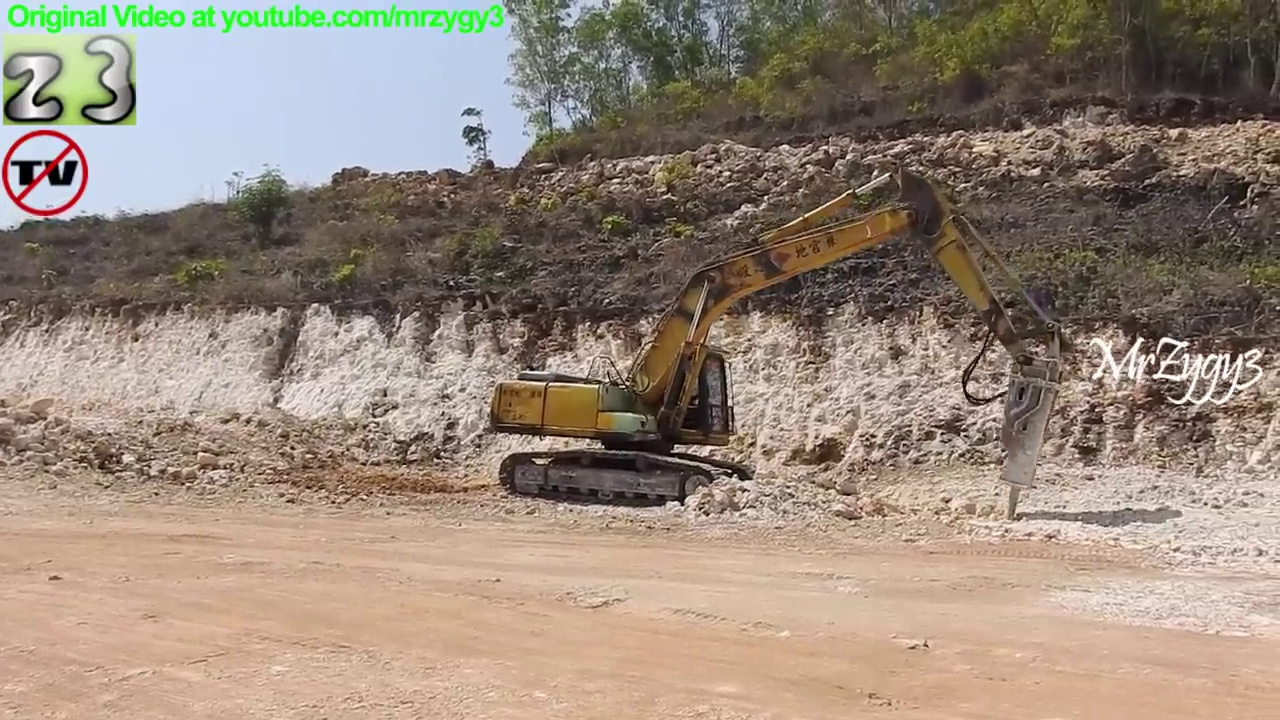excavator breaker: (479, 155, 1072, 530)
